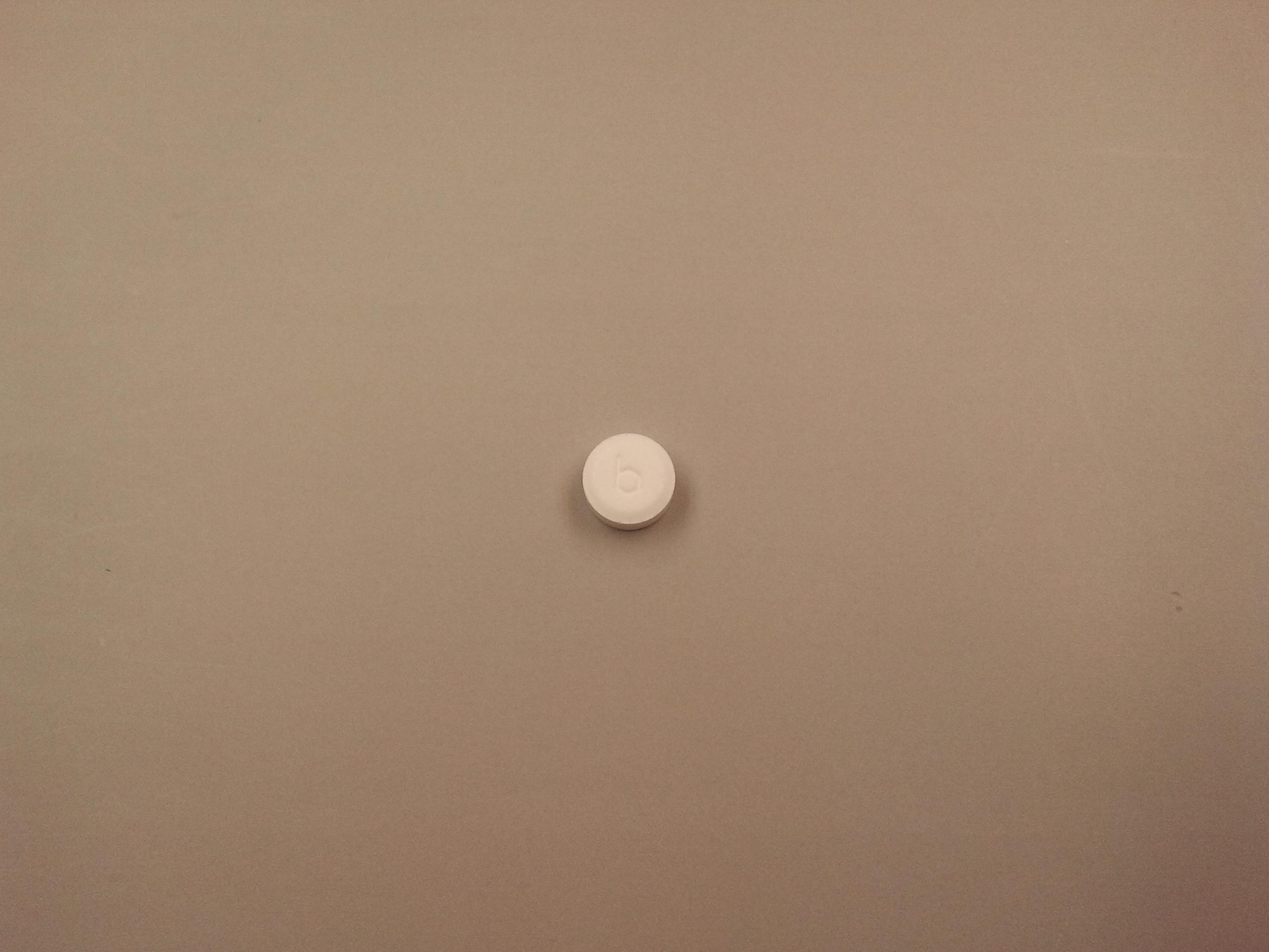Pill: (562, 439, 714, 524)
